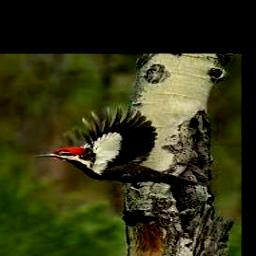Woodpecker: (32, 106, 205, 191)
